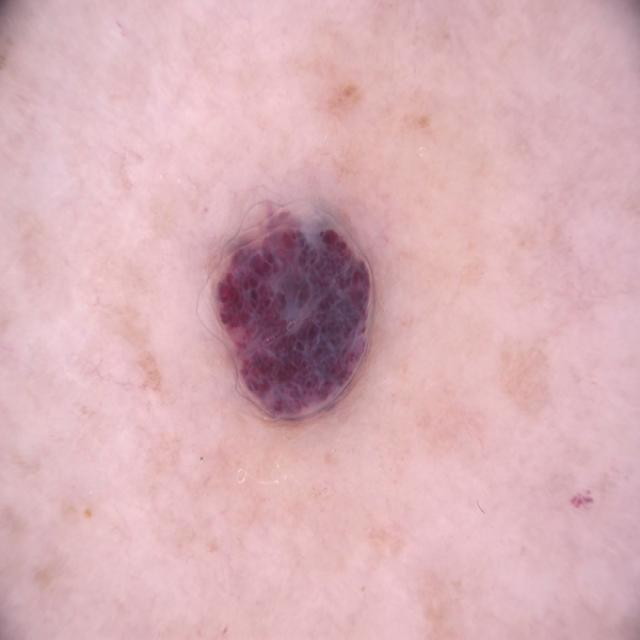Skin-Cancer Vascular lesion: (97, 13, 568, 563)
